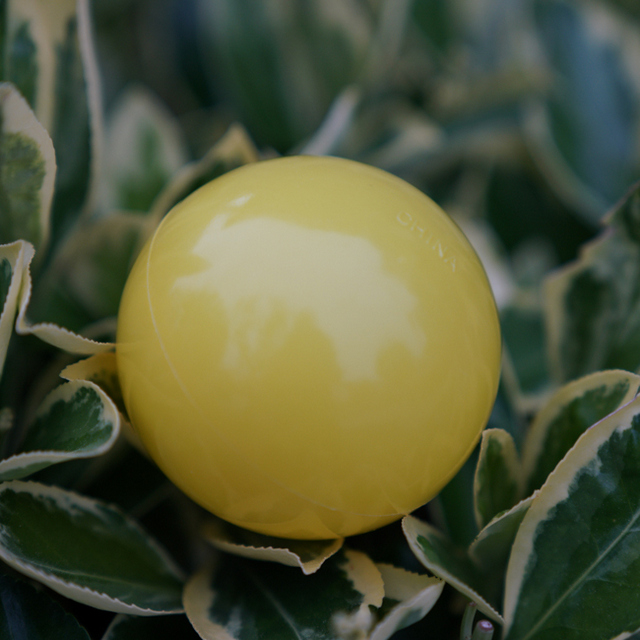Ball: (118, 158, 501, 541)
